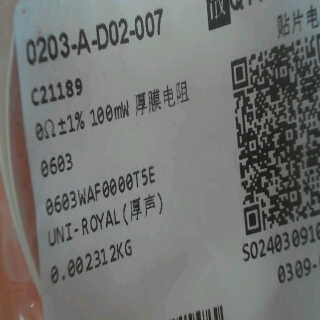0R: (33, 110, 88, 176)
